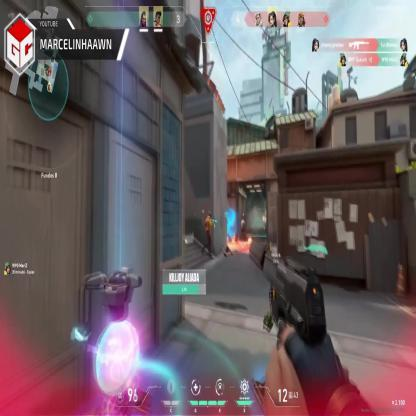enemy: (202, 208, 218, 259)
enemy_head: (208, 210, 212, 218)
